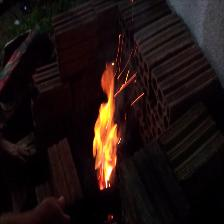fire: (94, 55, 121, 189)
